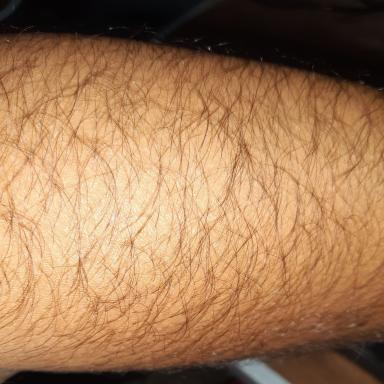normal skin: (0, 35, 384, 370)
